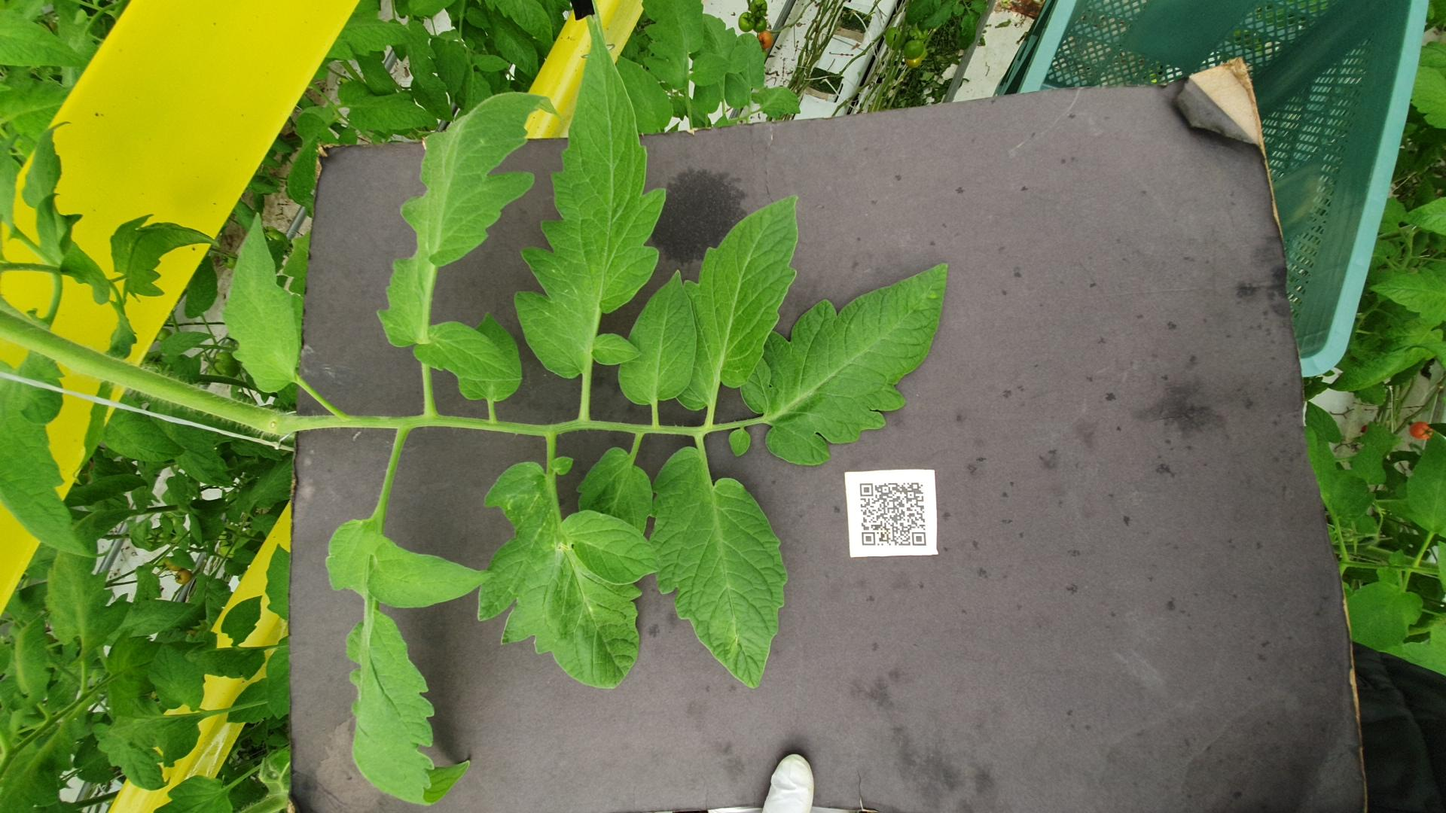Healthy: (765, 207, 1292, 315), (774, 290, 1390, 373), (7, 180, 517, 276), (608, 417, 981, 537), (229, 366, 655, 445), (718, 376, 1101, 454), (450, 0, 824, 61), (743, 125, 1083, 174), (269, 23, 543, 73), (724, 346, 975, 393), (622, 55, 747, 105), (1204, 189, 1303, 248), (1289, 360, 1446, 397), (1204, 347, 1348, 378), (174, 84, 304, 116), (294, 123, 388, 149), (154, 126, 241, 153), (1286, 388, 1357, 412)
